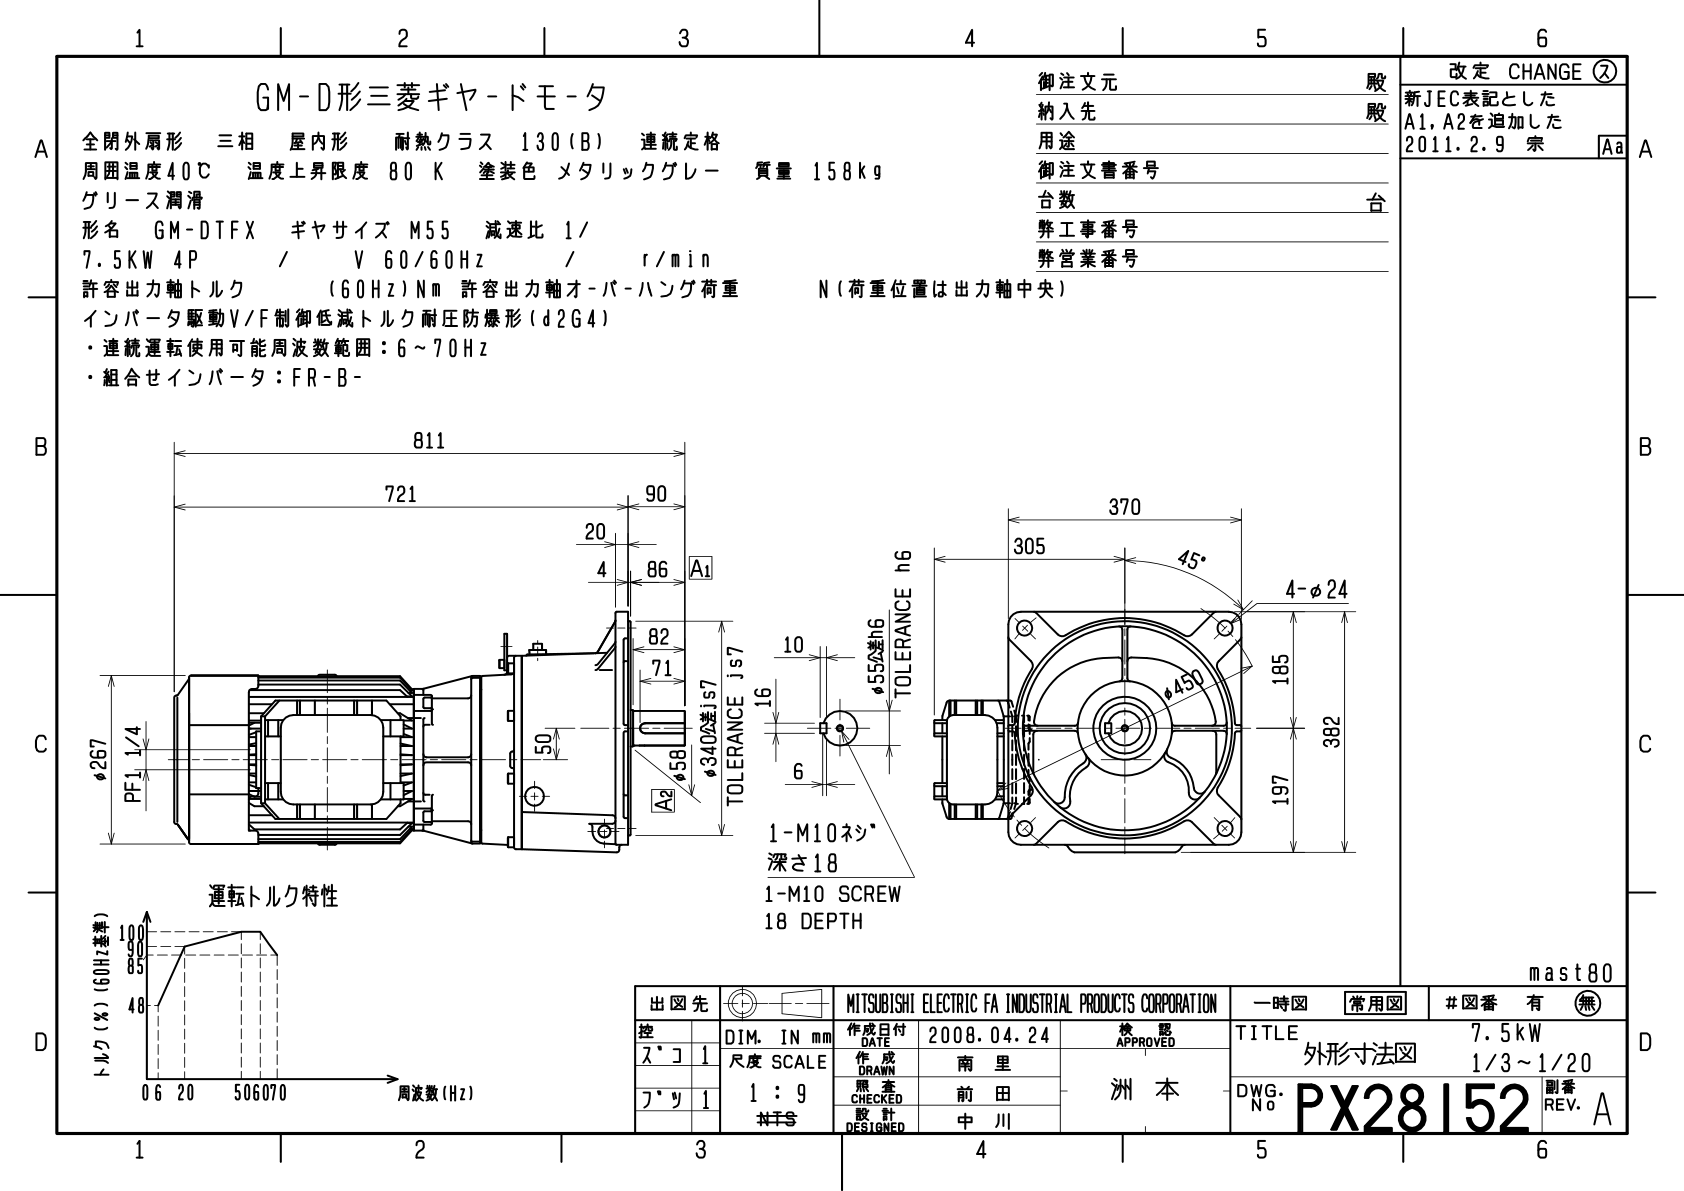GM_D_VF制御屋内_三相_フランジ: (1, 6, 1674, 1176)
